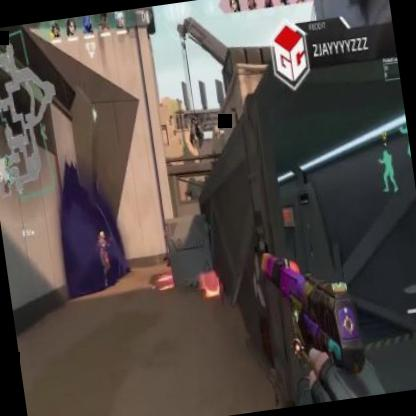enemy: (93, 228, 118, 286)
enemy_head: (98, 230, 105, 240)
